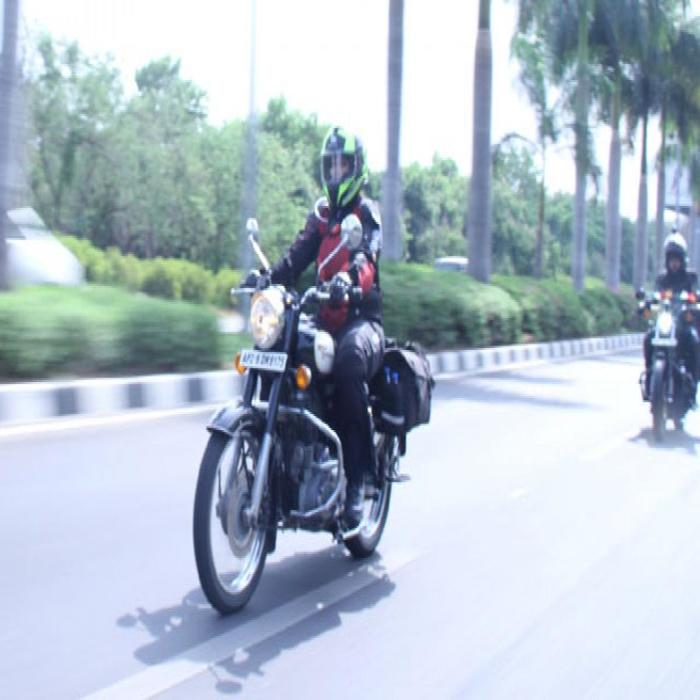h: (320, 126, 368, 208), (663, 230, 690, 262)
n: (241, 347, 289, 377)
